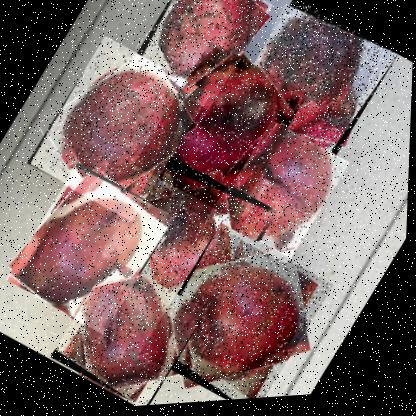pomegranate_rotten: (24, 31, 212, 229), (140, 219, 338, 407), (94, 153, 277, 343), (132, 38, 309, 226), (4, 157, 179, 341), (227, 0, 400, 170), (49, 254, 211, 412), (206, 118, 351, 272), (125, 0, 273, 118)
